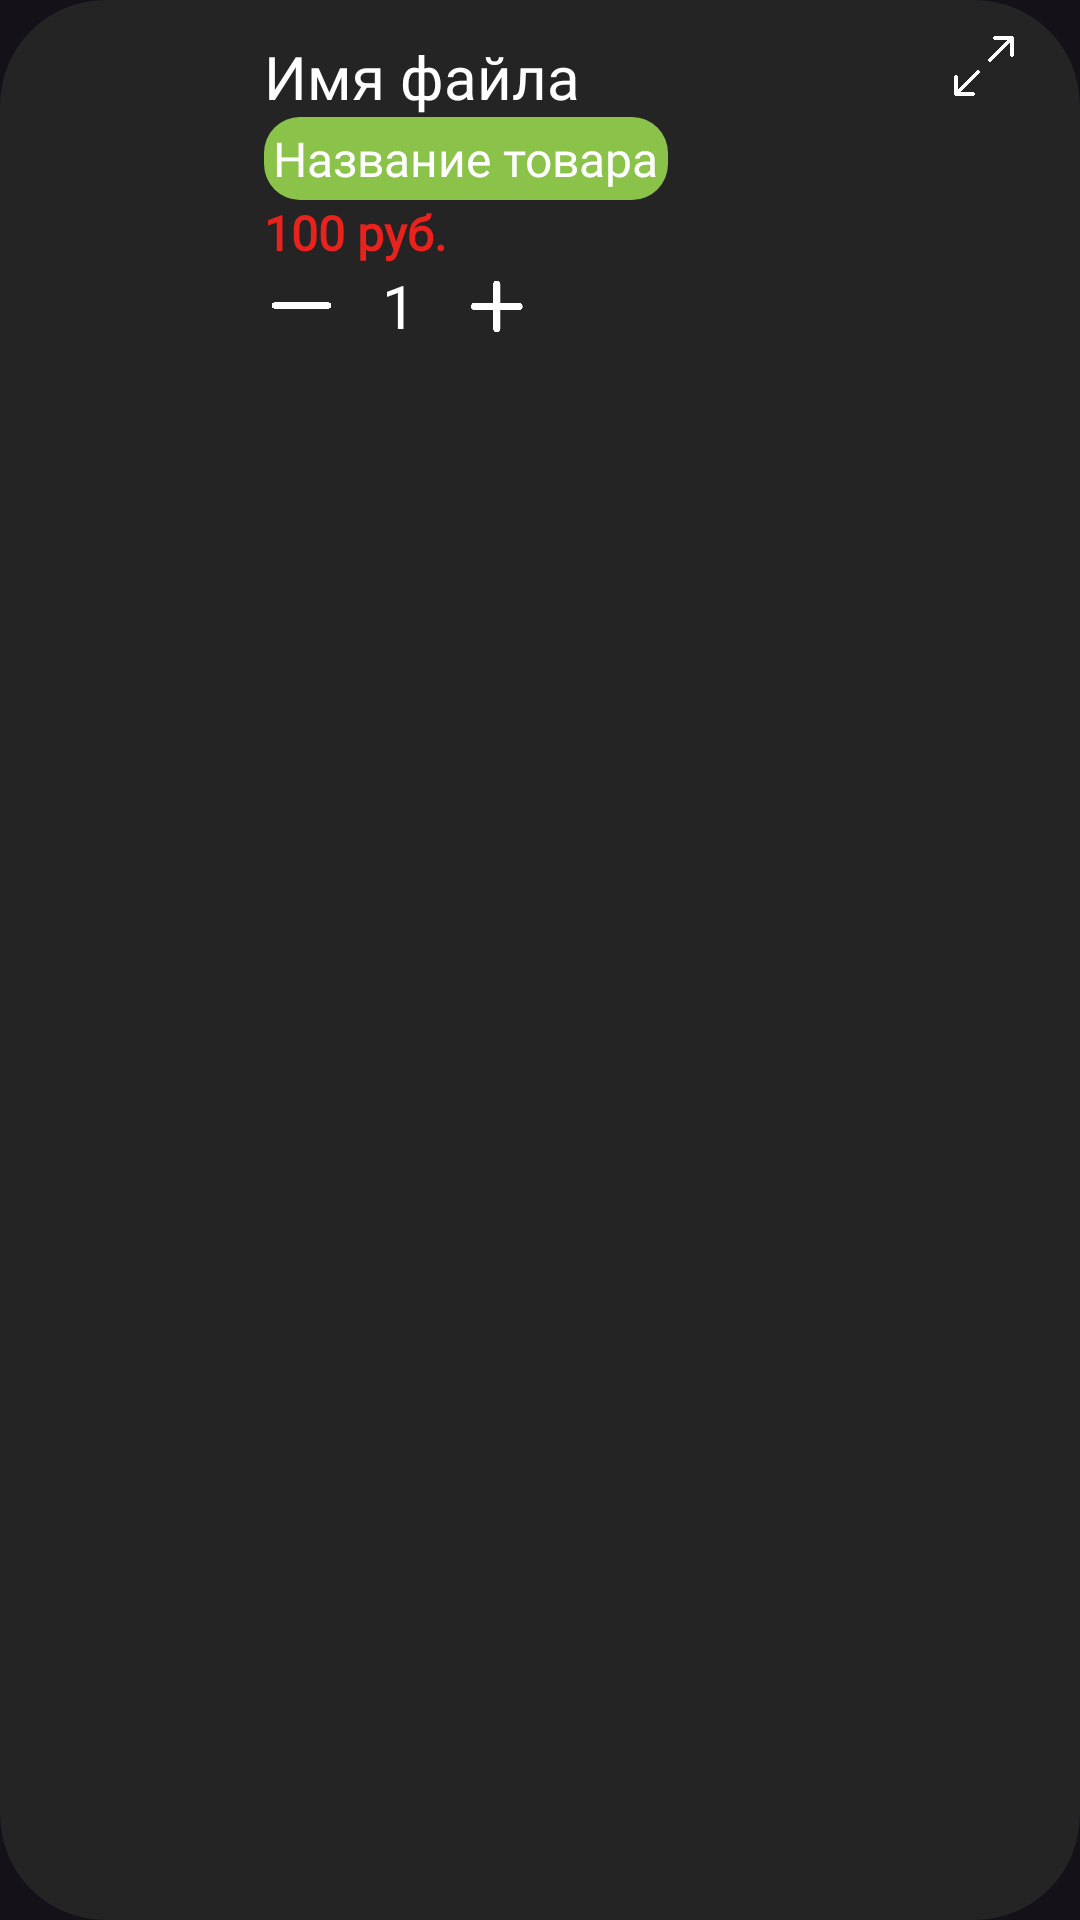

Locate icon controls on the screen. Image size 1080 x 1920, boxes as box(x1, y1, x2, y2).
plus: box(471, 281, 523, 332)
